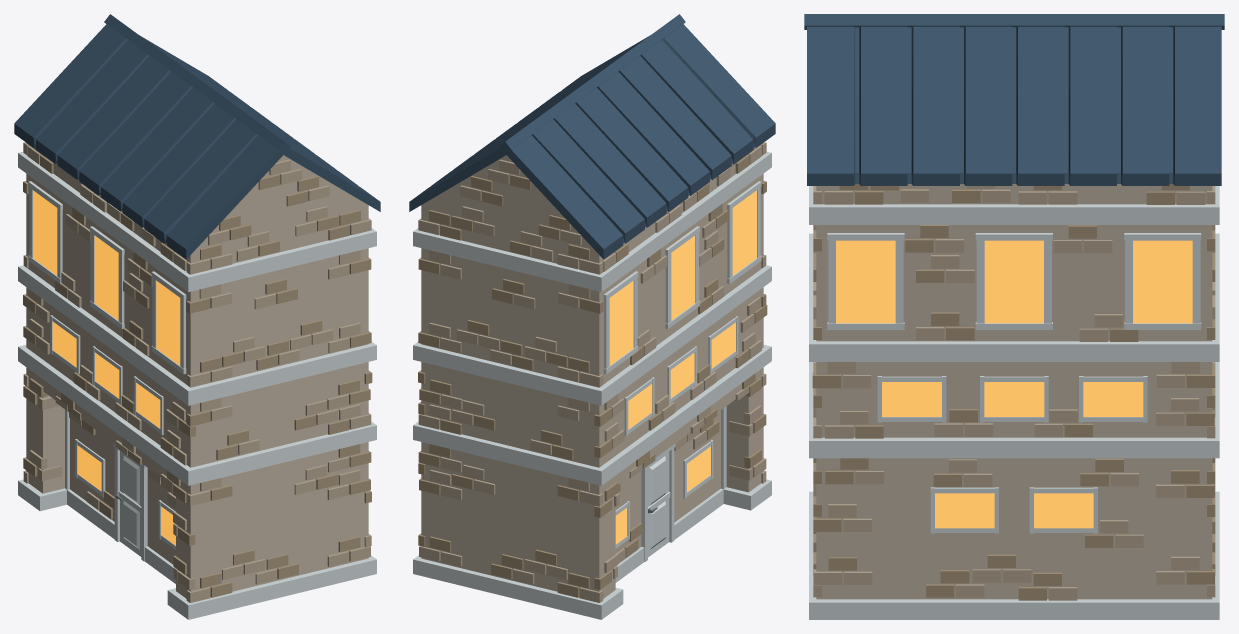
File: SM_House_17.fbx
3 views of the same model, side by side, from view 1: azimuth 30°, elevation 25°; view 2: azimuth 150°, elevation 25°; view 3: azimuth 270°, elevation 25° (orthographic). The views are drawn at different scales.
Visible parts, largest first — view 1: SM_House_17_LOD0; view 2: SM_House_17_LOD0; view 3: SM_House_17_LOD0.
Boxes of the visible parts, left/top/right/bottom form: SM_House_17_LOD0: left=14, top=14, right=380, bottom=619; SM_House_17_LOD0: left=409, top=14, right=775, bottom=619; SM_House_17_LOD0: left=804, top=14, right=1224, bottom=619.
Bounding box in the file's own units: 492 × 765 × 1105.
Materials: 1 (1 with a texture image).
